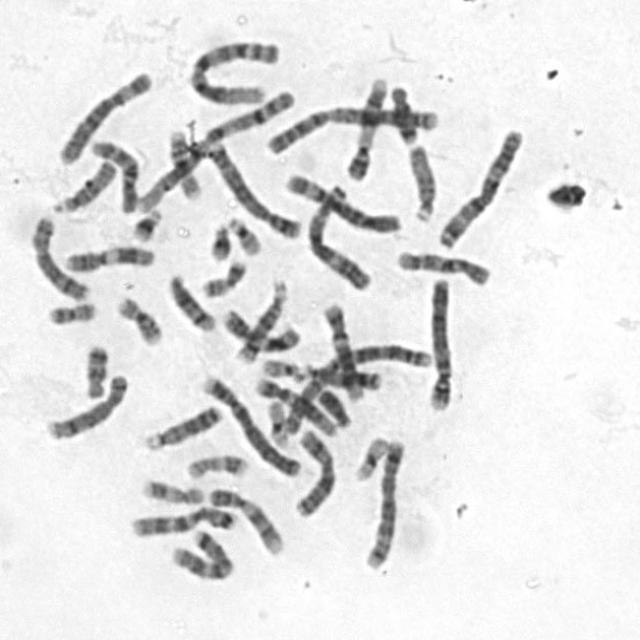A1: (127, 82, 301, 214), (182, 31, 284, 106)
A2: (274, 334, 438, 436), (259, 96, 442, 156)
A3: (431, 120, 528, 250), (295, 169, 376, 293)
B4: (194, 368, 304, 478), (421, 270, 455, 412)
B5: (198, 132, 304, 242), (357, 432, 407, 571)
C10: (389, 242, 494, 288), (84, 131, 140, 214)
C11: (215, 301, 302, 354), (58, 237, 158, 274)
C12: (248, 370, 340, 438), (316, 296, 368, 402)
C6: (51, 62, 155, 165), (279, 165, 405, 235)
C7: (123, 498, 238, 538), (164, 522, 236, 582)
C8: (39, 366, 131, 442), (24, 207, 92, 303)
C9: (201, 481, 285, 557), (340, 70, 392, 182)
D13: (137, 398, 225, 451), (294, 354, 383, 394)
D14: (230, 273, 290, 365), (161, 266, 218, 332)
D15: (46, 154, 119, 215), (402, 138, 439, 225)
E16: (160, 122, 204, 200), (109, 288, 165, 348)
E17: (134, 471, 207, 506), (180, 446, 251, 481)
E18: (385, 79, 419, 146), (76, 337, 111, 400)
F19: (348, 429, 391, 483), (259, 390, 292, 448)
F20: (194, 251, 250, 299), (42, 294, 98, 326)
G21: (125, 202, 164, 244), (201, 214, 234, 263)
G22: (221, 209, 263, 257), (255, 349, 308, 382)
X: (288, 422, 338, 518)
Y: (311, 382, 353, 429)
